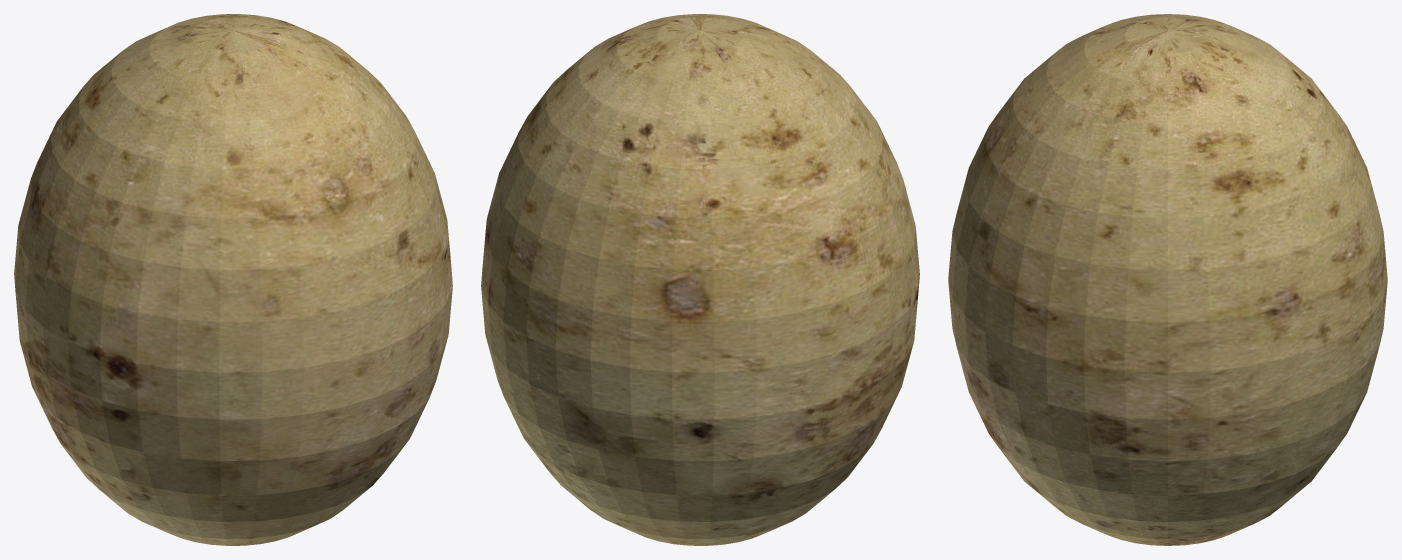
The model's file is potato 1.fbx.
3 views of the same model, side by side, from view 1: azimuth 30°, elevation 25°; view 2: azimuth 150°, elevation 25°; view 3: azimuth 270°, elevation 25° (orthographic).
Parts seen in each view (by area): view 1: Sphere; view 2: Sphere; view 3: Sphere.
Part boxes in pixels (bbox=[...]): Sphere: bbox=[14, 14, 452, 545]; Sphere: bbox=[481, 14, 919, 545]; Sphere: bbox=[948, 14, 1387, 545].
Size of the model in its own units: 200 by 250 by 200.
1 material, 1 textured.
